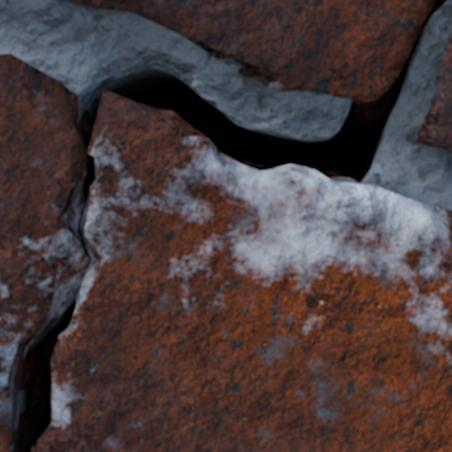brick: (73, 0, 430, 97), (417, 36, 451, 149)
broken_brick: (33, 92, 451, 451), (0, 53, 80, 424), (0, 430, 8, 451)
crack: (0, 0, 449, 451)
